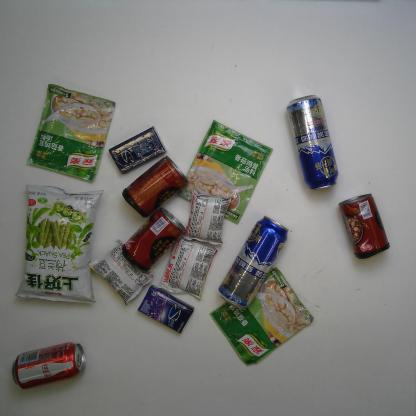Alcohol: (216, 213, 289, 311), (286, 92, 340, 191)
Canned Food: (121, 207, 188, 272), (121, 155, 189, 219), (338, 192, 390, 260)
Dessert: (88, 238, 156, 306), (158, 232, 219, 301), (180, 188, 235, 245)
Drink: (11, 340, 87, 390)
Gum: (108, 125, 167, 176), (136, 283, 194, 334)
Puffed Food: (14, 182, 104, 305)
Seasoner: (208, 266, 314, 367), (179, 120, 273, 226), (25, 82, 115, 184)
